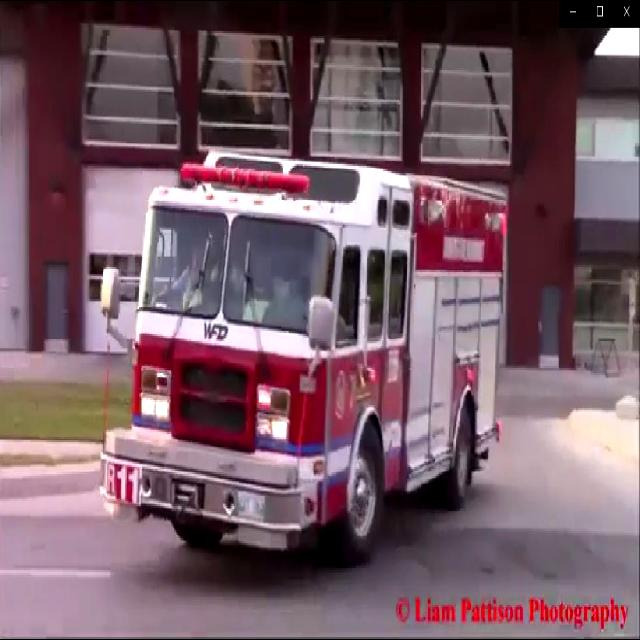emergency: (97, 138, 517, 580)
